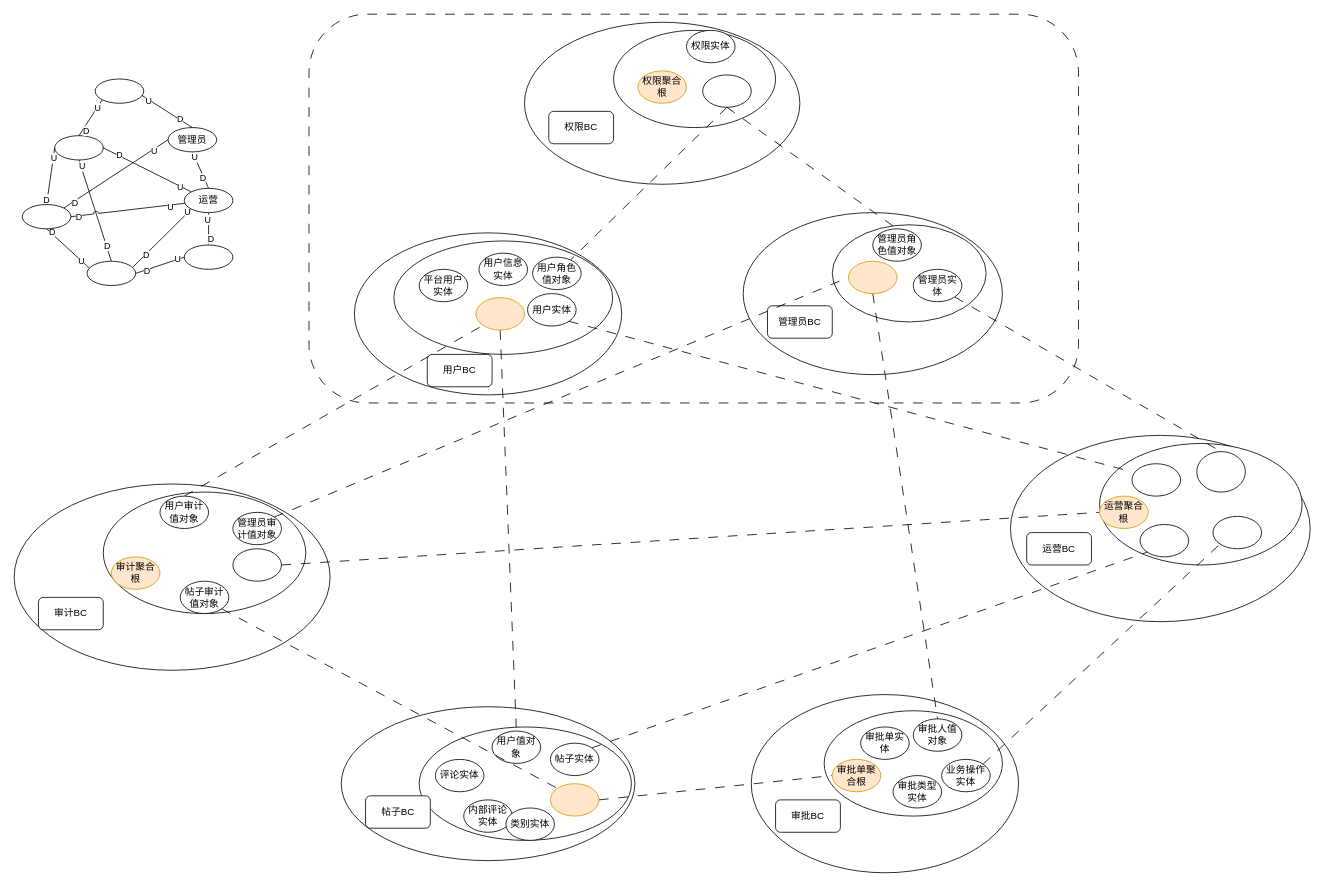
Some shapes in this 1324 by 887 pixel diagram are drawn without their labels. Each missing label, with the centre of its shape:
"业务操作统计值对象" goes at pixel 1237 532.
"审批" goes at pixel 208 256.
"审计" goes at pixel 46 216.
"帖子" goes at pixel 111 273.
"帖子统计值对象" goes at pixel 1164 540.
"帖子聚合根" goes at pixel 574 799.
"权限" goes at pixel 119 90.
"用户" goes at pixel 78 147.
"用户统计值对象" goes at pixel 1156 479.
"用户聚合根" goes at pixel 499 313.
"管理员统计值对象" goes at pixel 1220 471.
"管理员聚合根" goes at pixel 872 277.
"角色实体" goes at pixel 726 90.
"运营审计值对象" goes at pixel 256 564.
